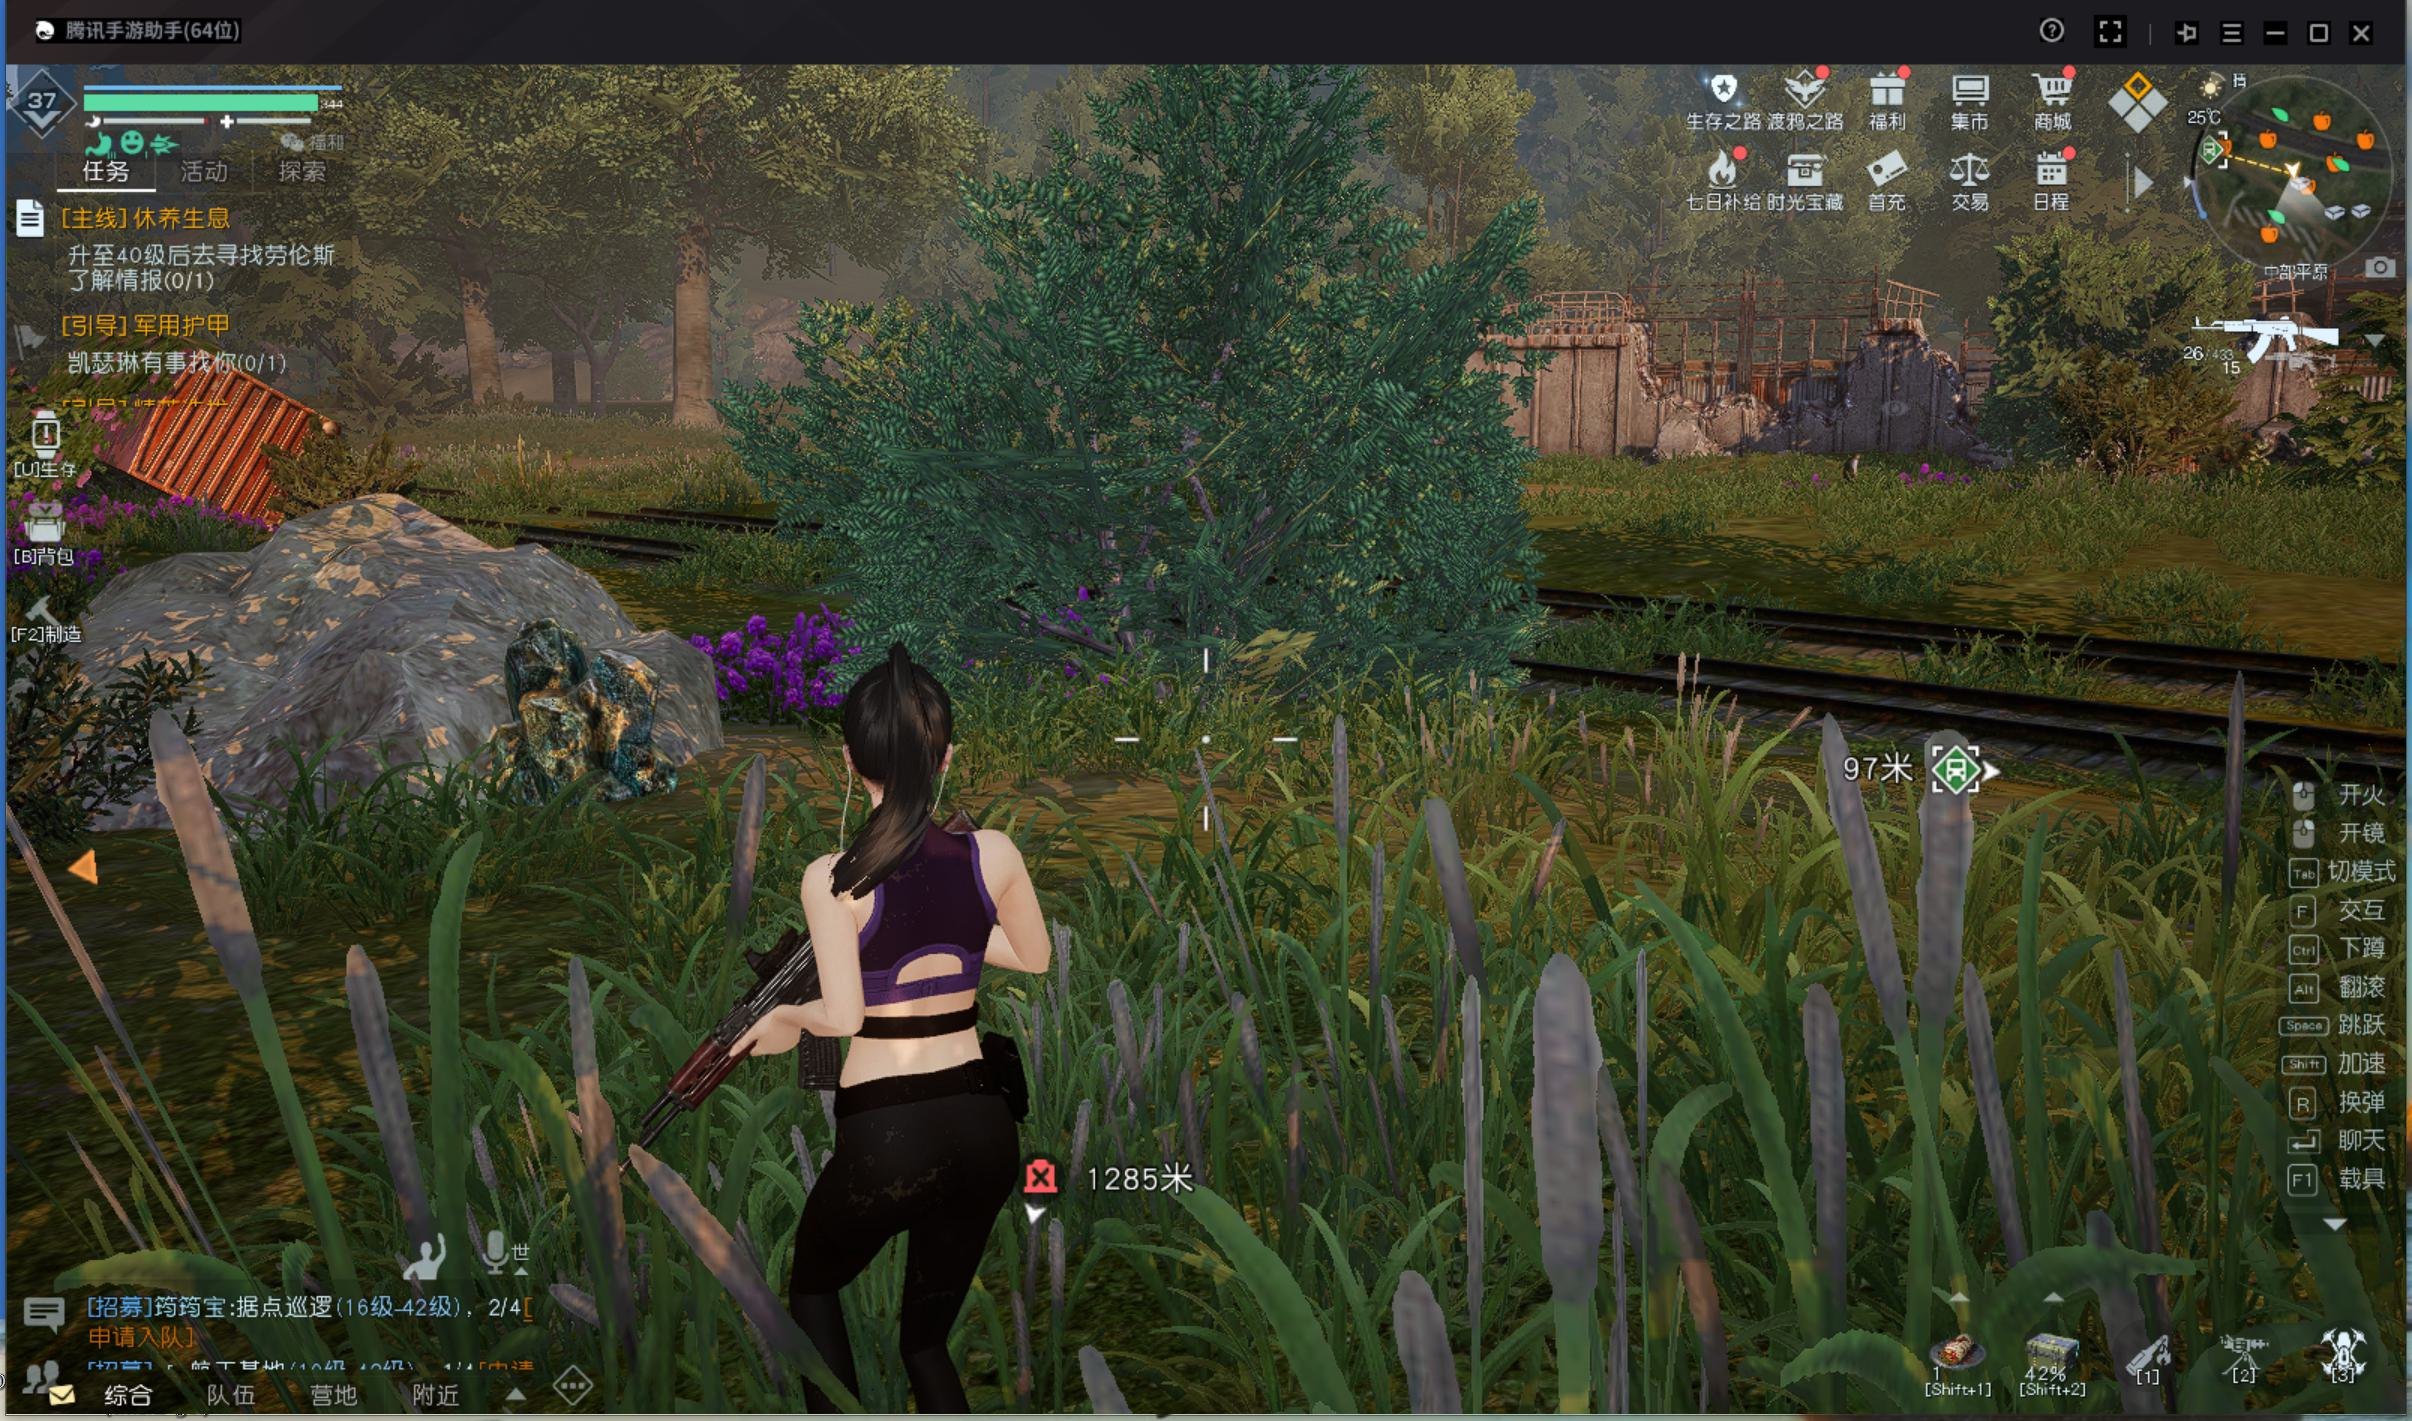stone: (453, 597, 688, 822)
tree: (441, 264, 534, 440), (660, 232, 729, 448)
